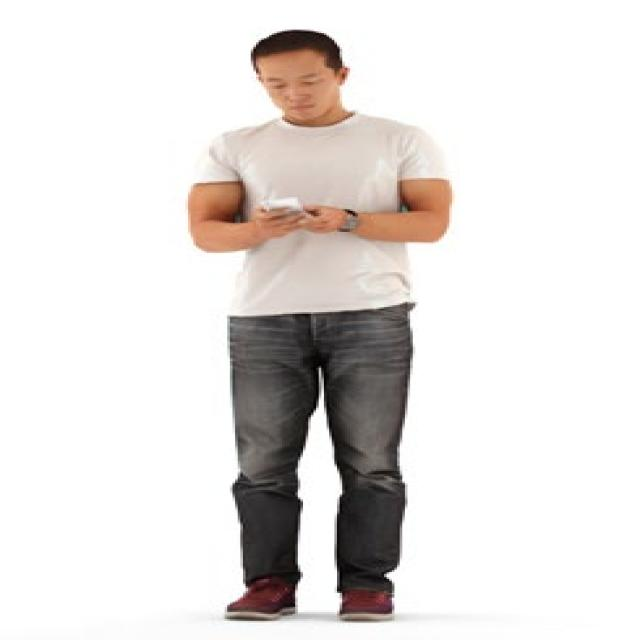standing: (194, 26, 452, 623)
